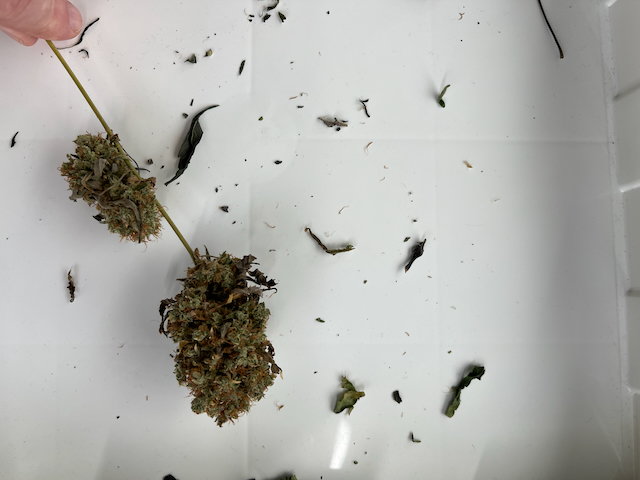Bud: (161, 254, 272, 424), (59, 131, 160, 246)
Stem: (15, 34, 124, 131), (157, 213, 195, 250)
